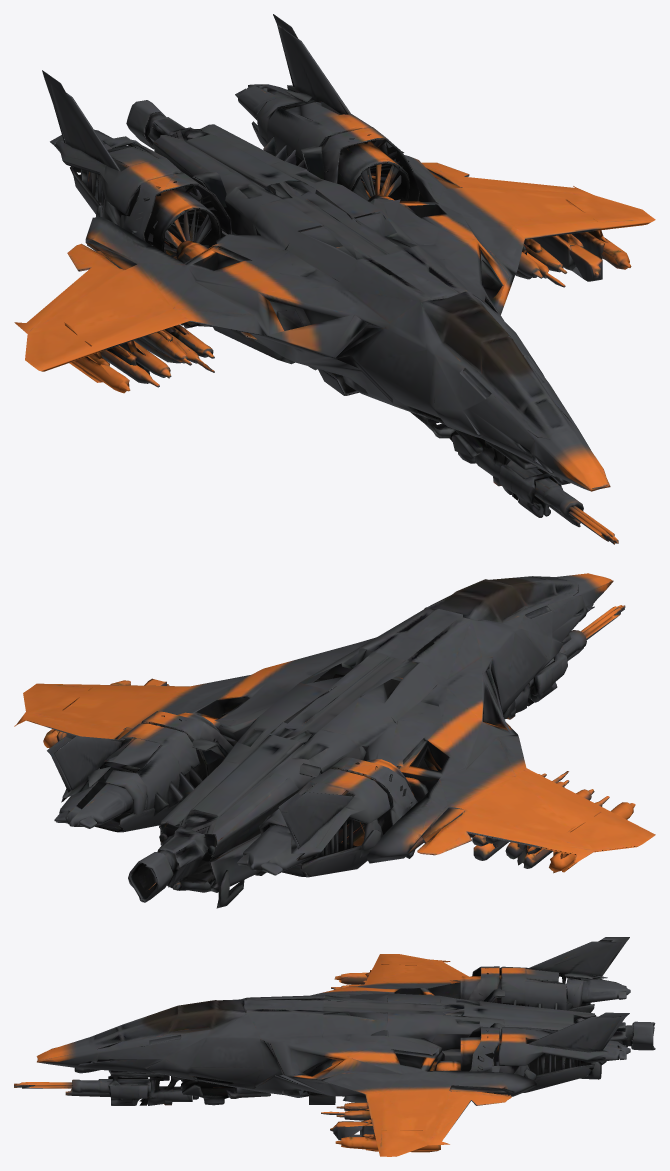
File: saturn-schiff2.glb
The picture shows the model from 3 angles, top to bottom: view 1: azimuth 30°, elevation 25°; view 2: azimuth 150°, elevation 25°; view 3: azimuth 270°, elevation 25°; orthographic projection. The views are drawn at different scales.
Visible parts, largest first — view 1: Hull_LOD0; view 2: Hull_LOD0; view 3: Hull_LOD0.
Part boxes in pixels (box(x1,y1,x2,y2)): Hull_LOD0: box(14, 14, 655, 544); Hull_LOD0: box(14, 573, 655, 908); Hull_LOD0: box(14, 937, 655, 1156).
Size of the model in its own units: 12.19 by 3.63 by 16.34.
1 material, 1 textured.
